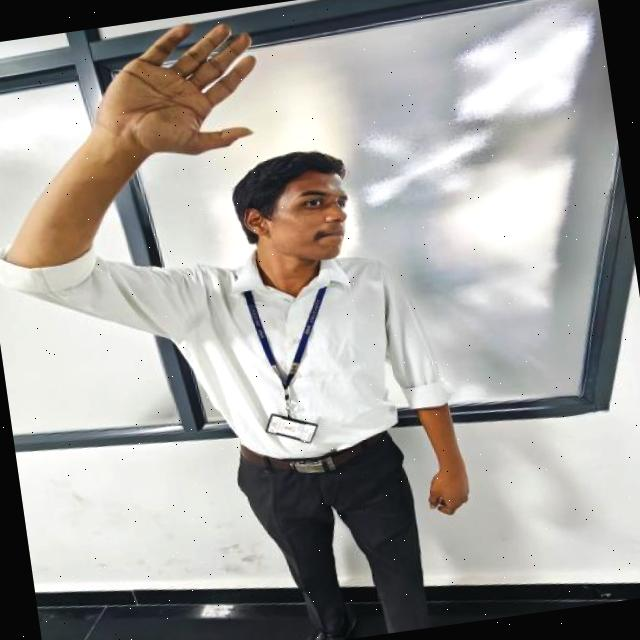Card: (266, 414, 317, 442)
Id strap: (244, 287, 326, 389)
